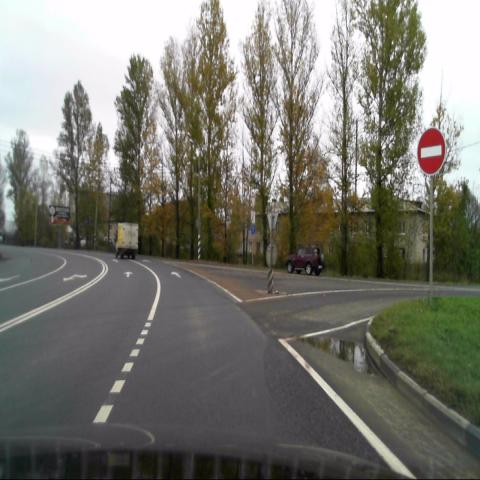3_1: (417, 127, 445, 175)
